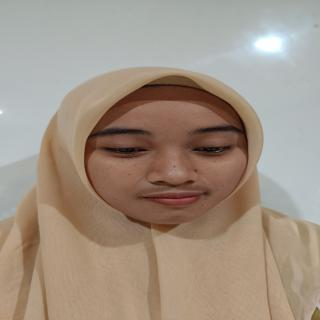Sedih: (74, 87, 260, 235)
